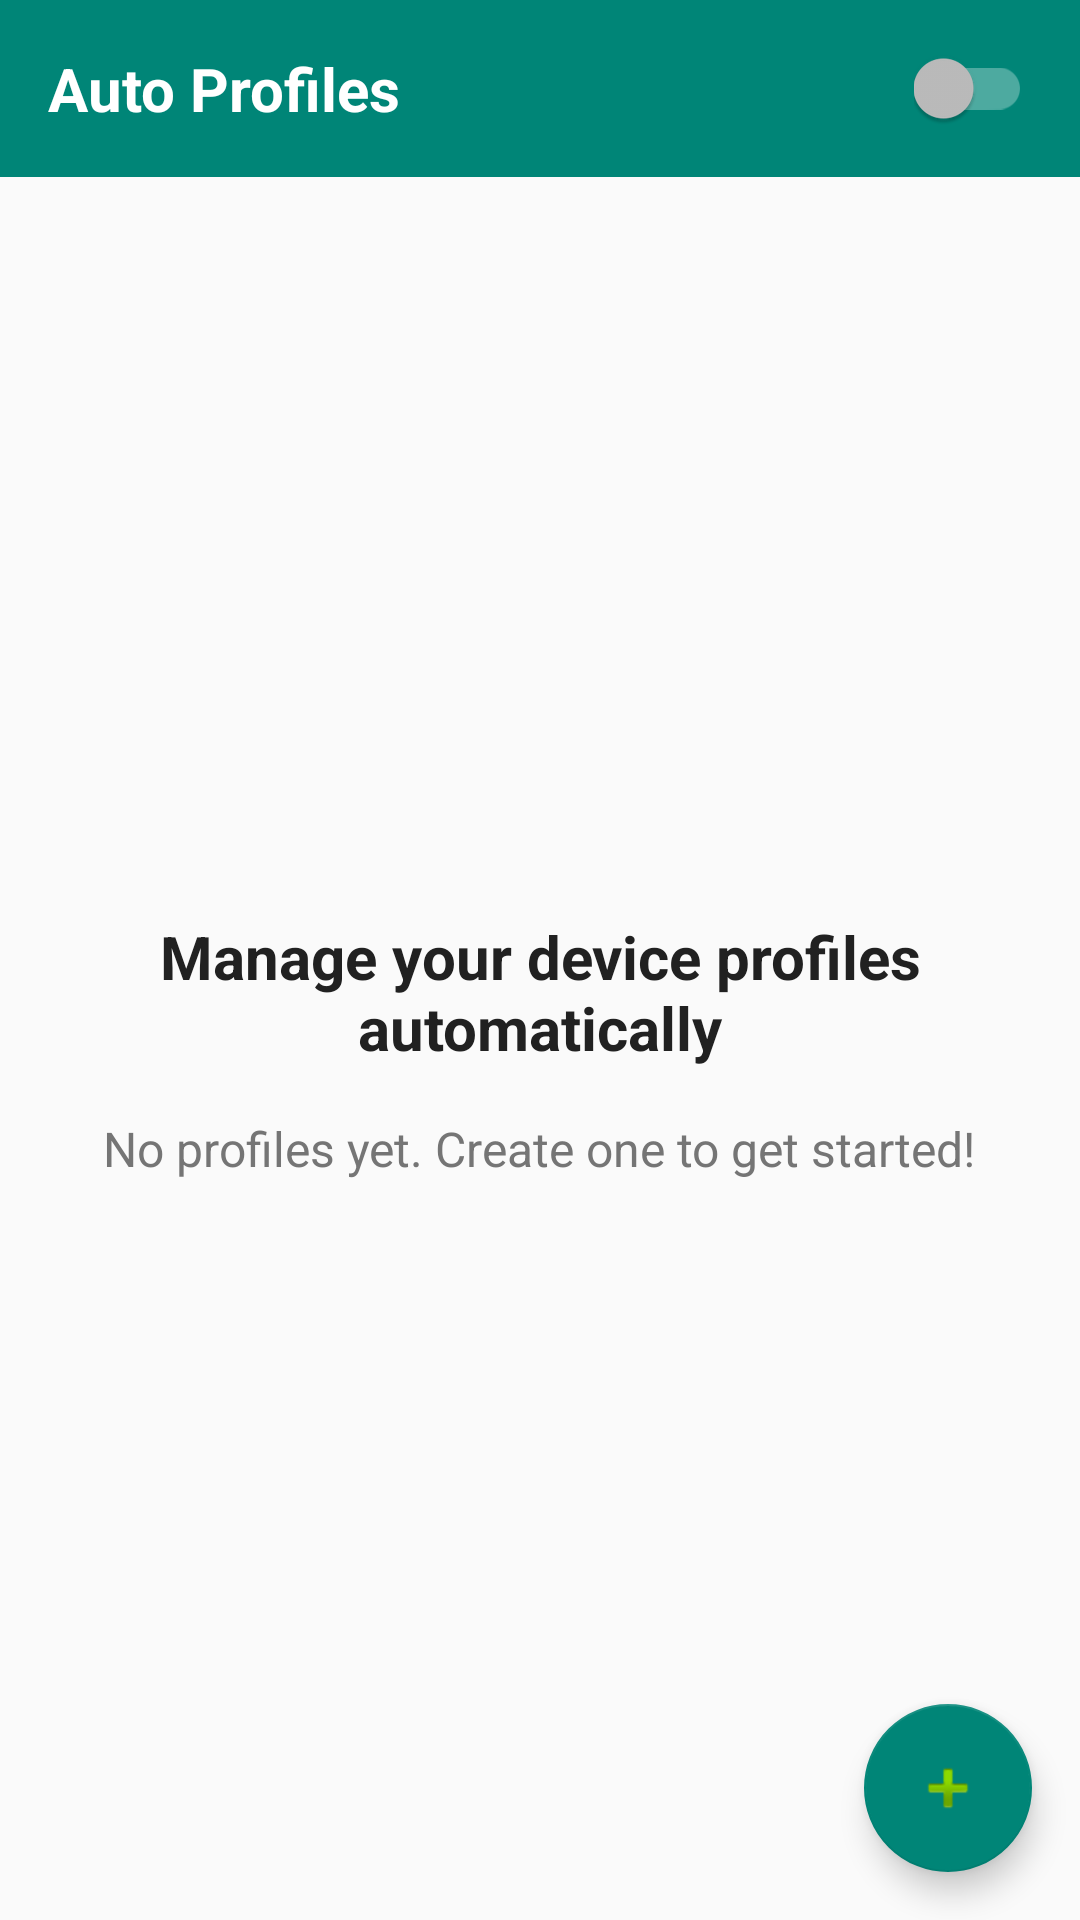

Point at icon controls on the screen. Image size 1080px x 1920px, points as [x,y].
Add Profile: [948,1788]
